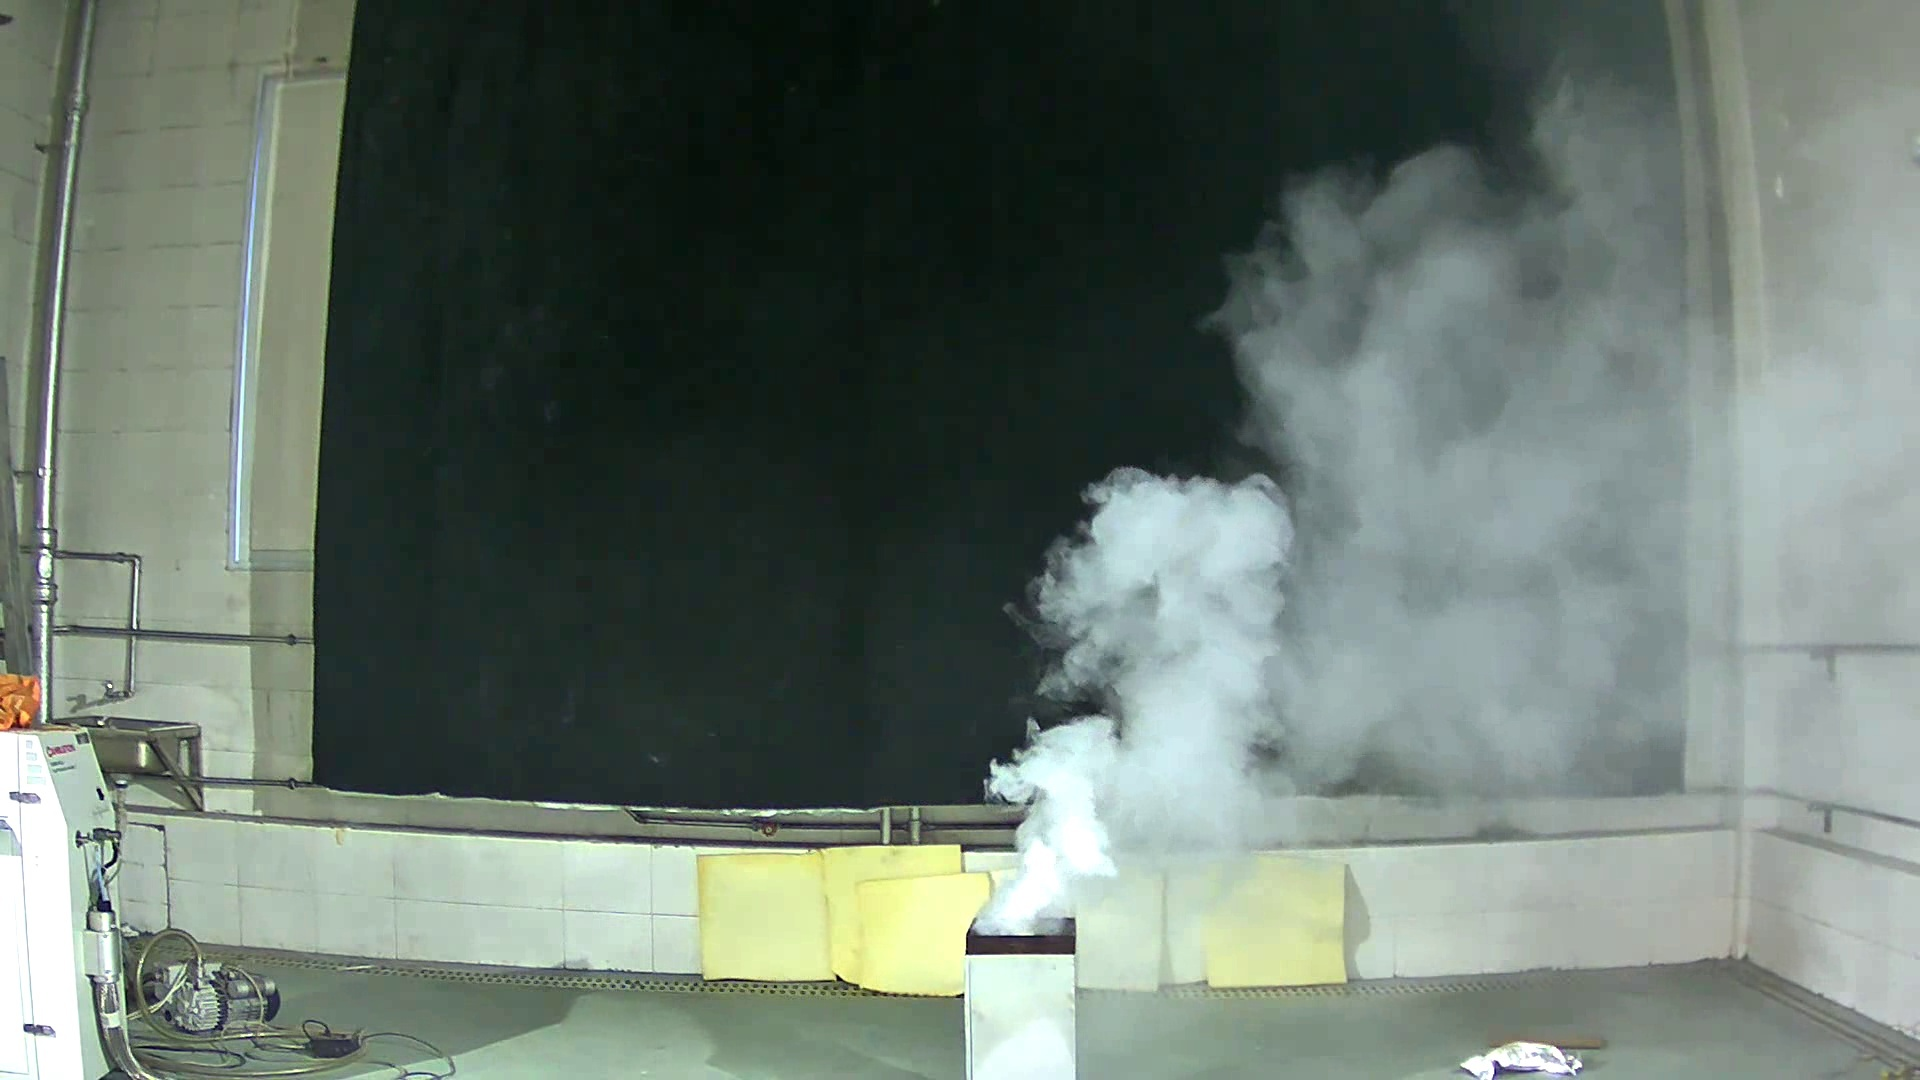smoke: (978, 88, 1742, 924)
